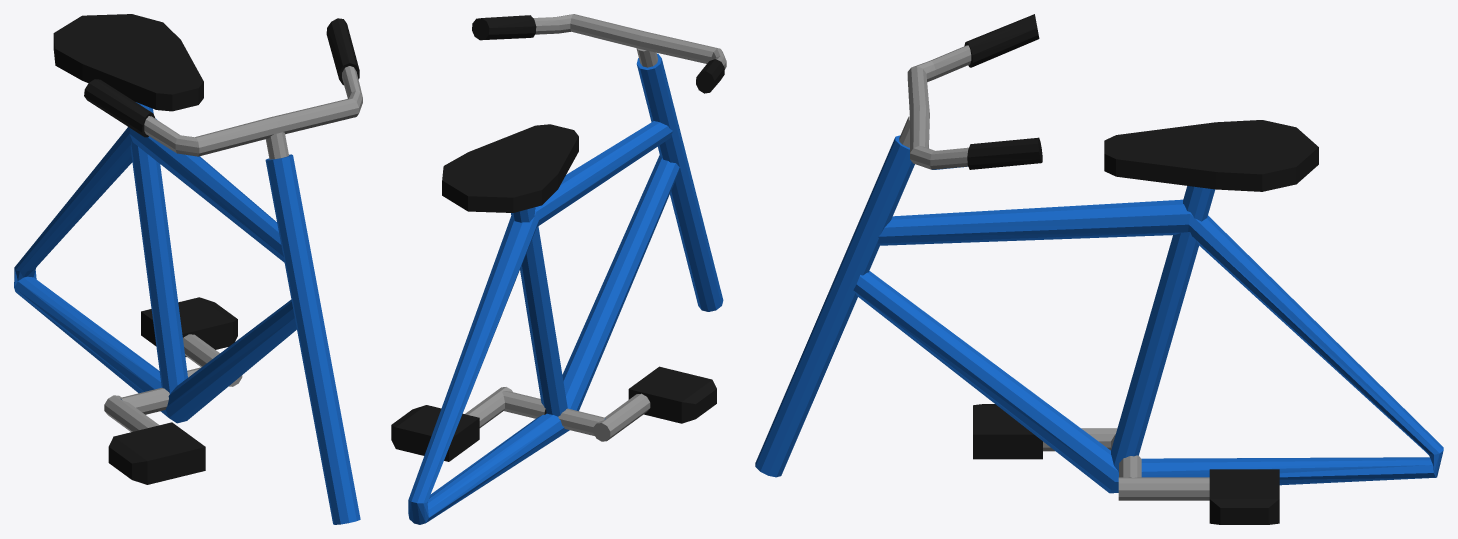
File: bike.obj
3 renders of one model, left to right at view 1: azimuth 30°, elevation 25°; view 2: azimuth 150°, elevation 25°; view 3: azimuth 270°, elevation 25°, orthographic. The views are drawn at different scales.
Visible parts, largest first — view 1: bike; view 2: bike; view 3: bike.
Part boxes in pixels (x1=…): bike: x1=14, y1=14, x2=362, y2=524; bike: x1=391, y1=14, x2=726, y2=524; bike: x1=755, y1=14, x2=1443, y2=524.
Bounding box in the file's own units: 1.2 × 1.74 × 2.62.
